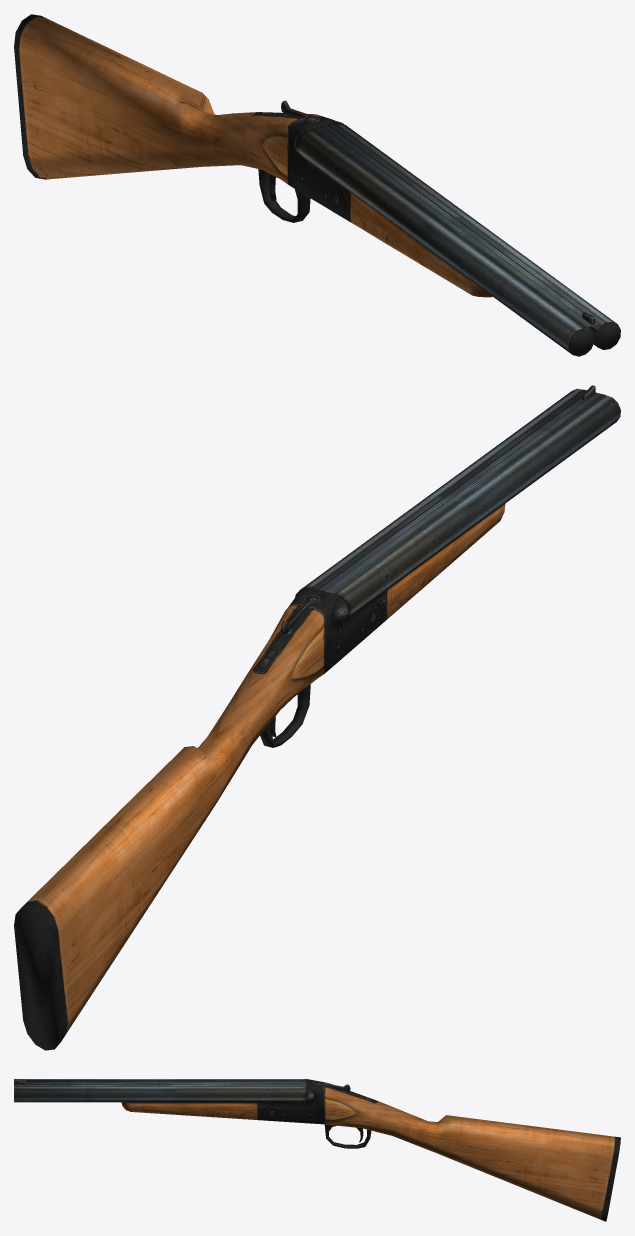
File: DBS.FBX
The picture shows the model from 3 angles, top to bottom: view 1: azimuth 30°, elevation 25°; view 2: azimuth 150°, elevation 25°; view 3: azimuth 270°, elevation 25°; orthographic projection. The views are drawn at different scales.
Parts seen in each view (by area): view 1: default; view 2: default; view 3: default.
Part boxes in pixels (x1,y1,x2,y2): default: (14, 14, 620, 356); default: (14, 385, 620, 1050); default: (14, 1079, 620, 1221).
Bounding box in the file's own units: 6.31 × 29.85 × 116.
